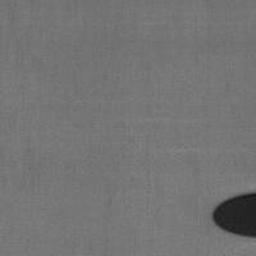Punching: (214, 193, 256, 237)
